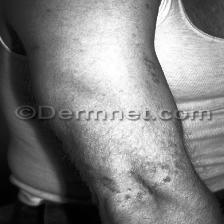Benign Marking or Mole: (150, 159, 177, 185), (141, 52, 161, 84)
